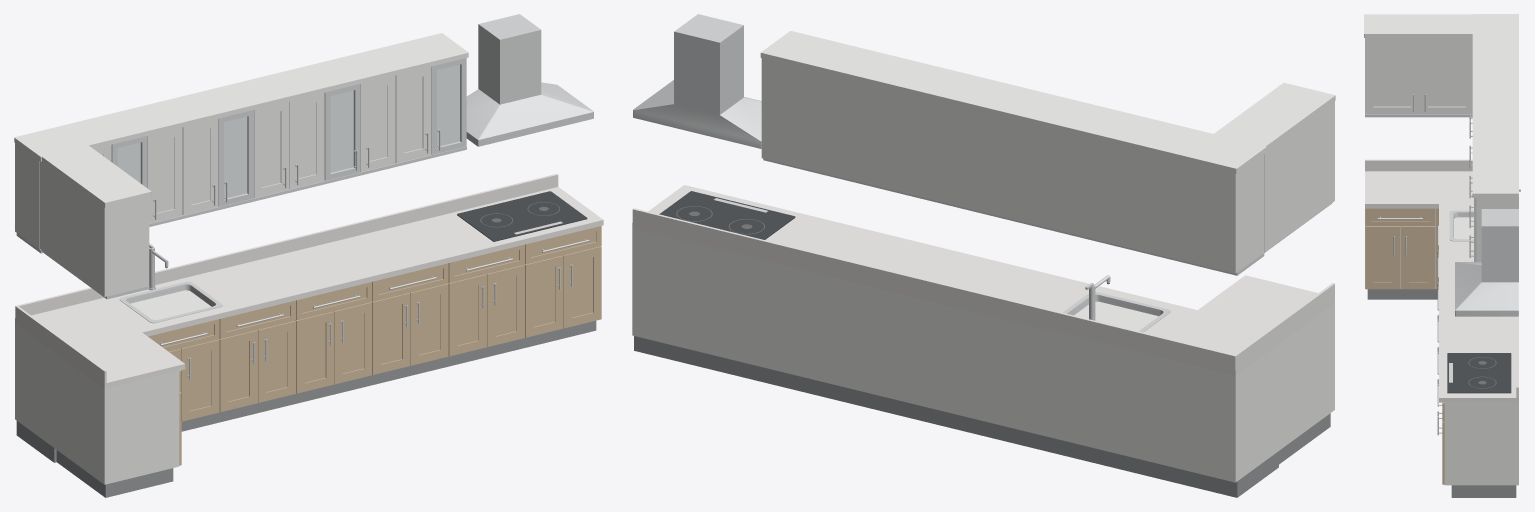
3 renders of one model, left to right at view 1: azimuth 30°, elevation 25°; view 2: azimuth 150°, elevation 25°; view 3: azimuth 270°, elevation 25°, orthographic. The views are drawn at different scales.
Parts seen in each view (by area): view 1: Tủ bếp chữ L Dài cạnh chính=4200; Dài cạnh phụ=1200; Sâu tủ ; view 2: Tủ bếp chữ L Dài cạnh chính=4200; Dài cạnh phụ=1200; Sâu tủ ; view 3: Tủ bếp chữ L Dài cạnh chính=4200; Dài cạnh phụ=1200; Sâu tủ .
Part boxes in pixels (x1=…): Tủ bếp chữ L Dài cạnh chính=4200; Dài cạnh phụ=1200; Sâu tủ : x1=14, y1=14, x2=603, y2=497; Tủ bếp chữ L Dài cạnh chính=4200; Dài cạnh phụ=1200; Sâu tủ : x1=632, y1=14, x2=1335, y2=497; Tủ bếp chữ L Dài cạnh chính=4200; Dài cạnh phụ=1200; Sâu tủ : x1=1364, y1=14, x2=1520, y2=497.
Size of the model in its own units: 4.21 by 2.2 by 1.22.
